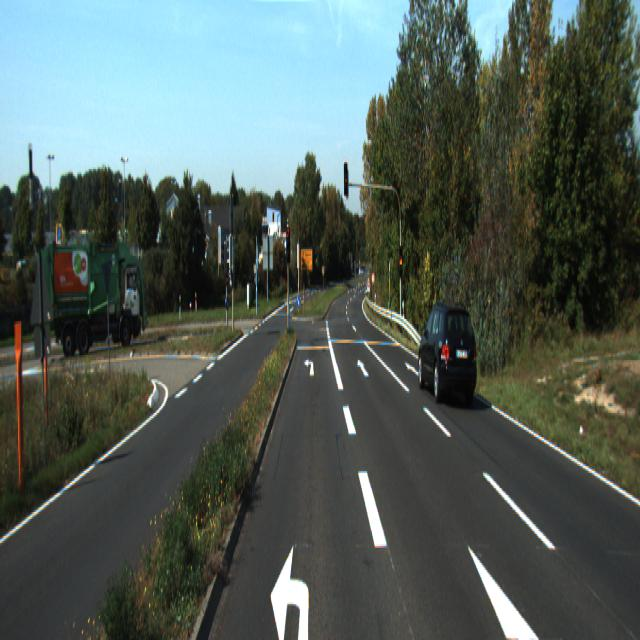Car: (34, 242, 147, 357), (416, 302, 478, 406)
